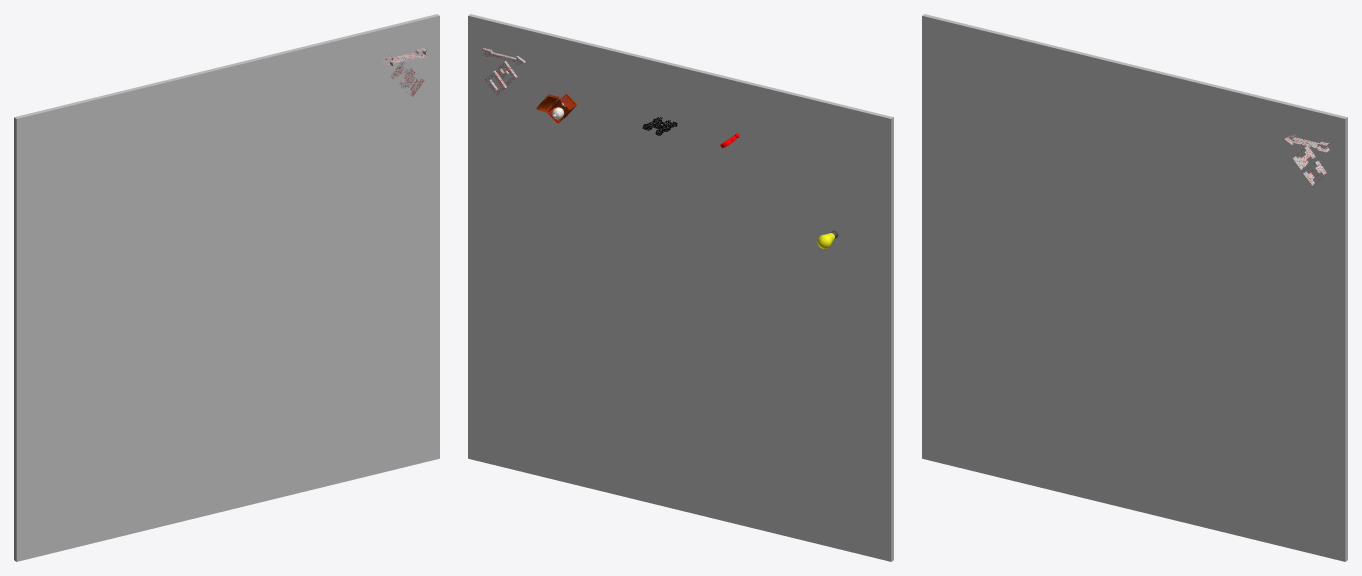
Rendered from monopoly.dae.
The picture shows the model from 3 angles, left to right: view 1: azimuth 30°, elevation 25°; view 2: azimuth 150°, elevation 25°; view 3: azimuth 330°, elevation 25°; orthographic projection.
Parts seen in each view (by area): view 1: map_plane, sign_go; view 2: map_plane, sign_go, box_3; view 3: map_plane, sign_go.
Boxes of the visible parts, bbox=[...] form: map_plane: bbox=[14, 14, 439, 561]; sign_go: bbox=[382, 48, 427, 96]; map_plane: bbox=[468, 14, 893, 561]; sign_go: bbox=[482, 48, 525, 95]; box_3: bbox=[536, 93, 577, 123]; map_plane: bbox=[922, 14, 1347, 561]; sign_go: bbox=[1284, 134, 1329, 185].
Size of the model in its own units: 1 by 0.1361 by 1.
12 materials, 1 textured.
